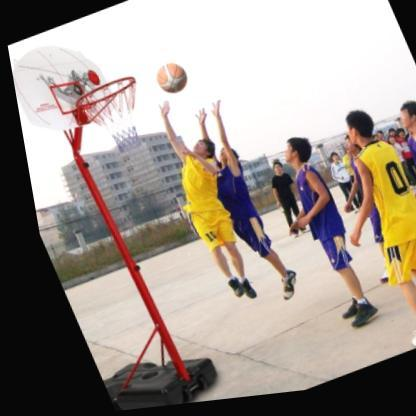basketball: (148, 61, 190, 101)
rim: (67, 74, 156, 162)
